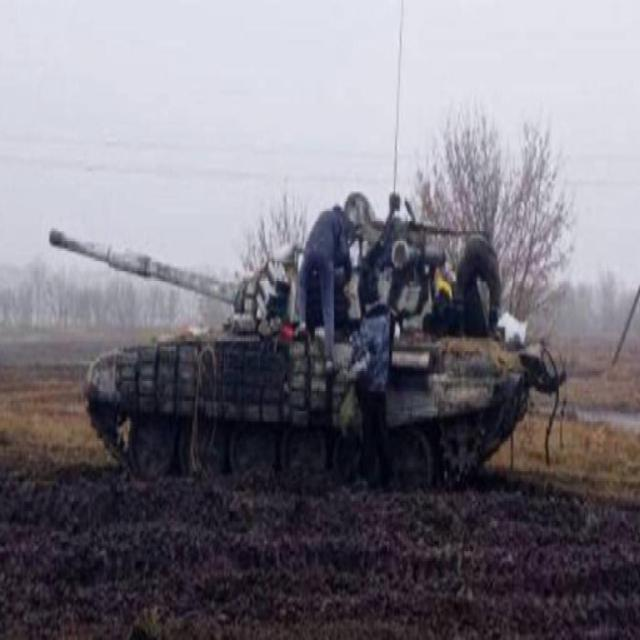TANK: (42, 185, 544, 502)
